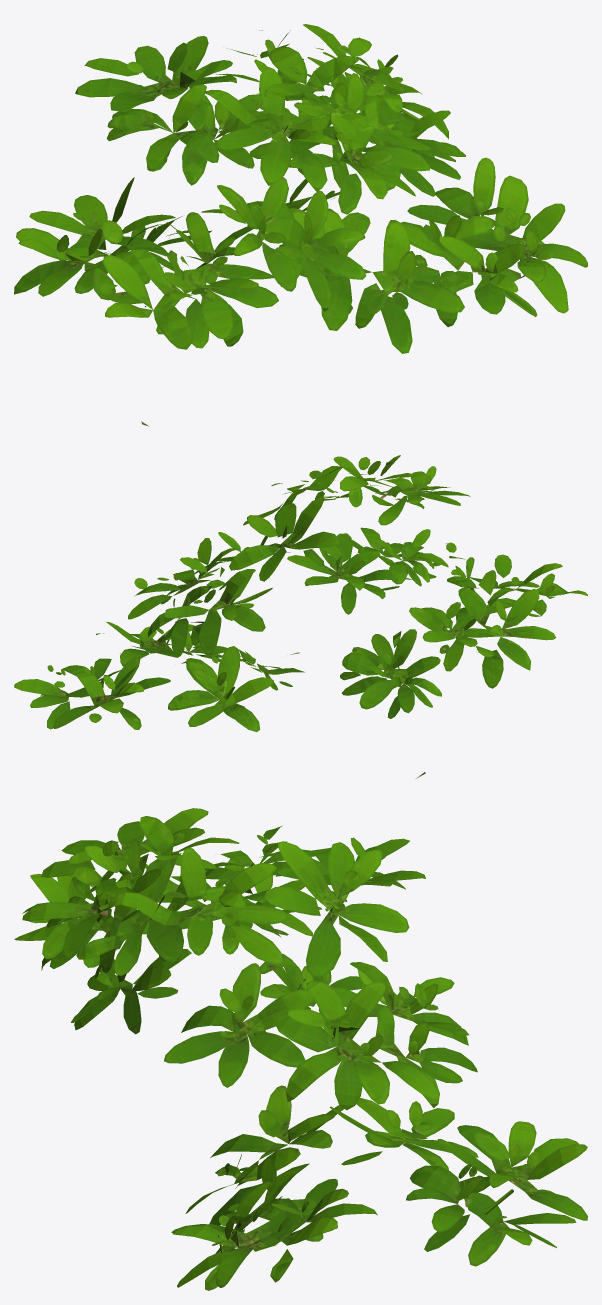
The model's file is leaf_su.glb.
3 renders of one model, top to bottom at view 1: azimuth 30°, elevation 25°; view 2: azimuth 150°, elevation 25°; view 3: azimuth 270°, elevation 25°, orthographic. The views are drawn at different scales.
Parts seen in each view (by area): view 1: geometry_0; view 2: geometry_0; view 3: geometry_0.
Part boxes in pixels (x1=…): geometry_0: x1=14, y1=24, x2=587, y2=426; geometry_0: x1=14, y1=455, x2=587, y2=778; geometry_0: x1=14, y1=808, x2=587, y2=1290.
Bounding box in the file's own units: 0.364 × 0.2245 × 0.3078.
1 material, 1 textured.
